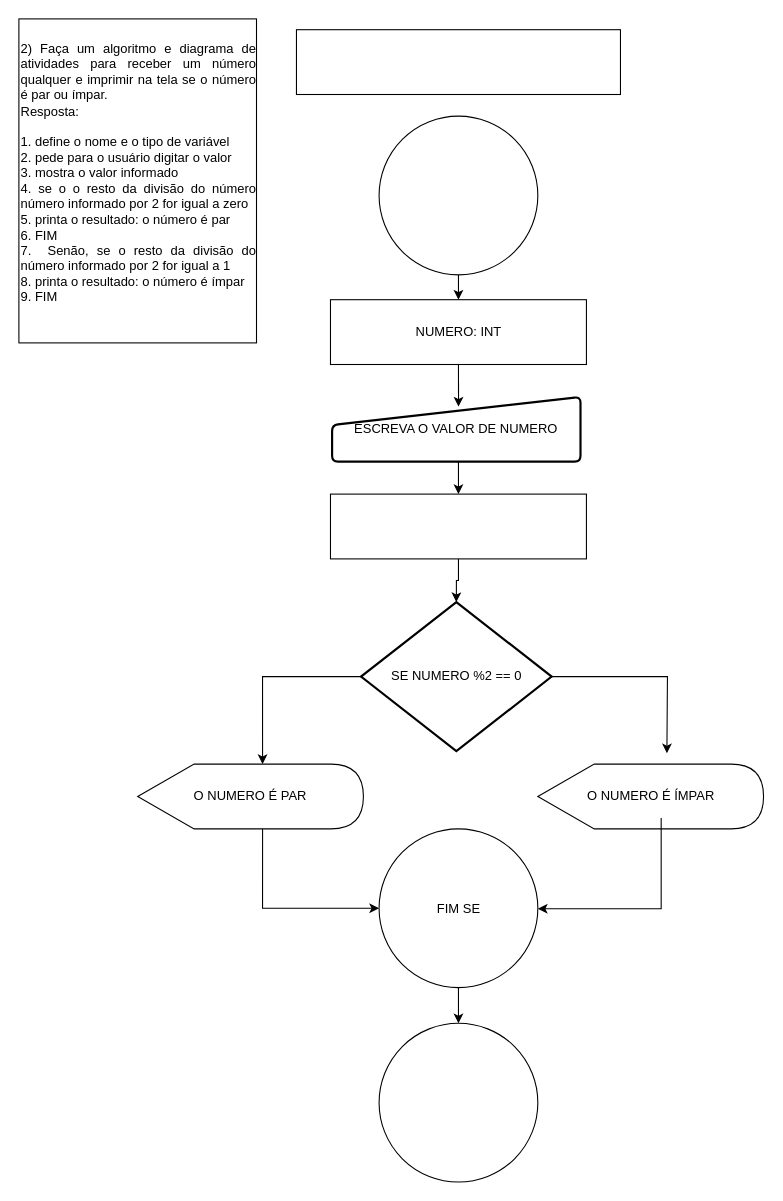
This 783x1201 diagram has some shape labels left out. Here are the shapes that lost their labels. From the top down, the box of each, then its label:
(295, 29, 620, 94): Verifica se um número é par ou ímpar
(378, 115, 538, 275): INÍCIO
(329, 493, 586, 559): LEIA NUMERO
(378, 1022, 538, 1182): FIM
